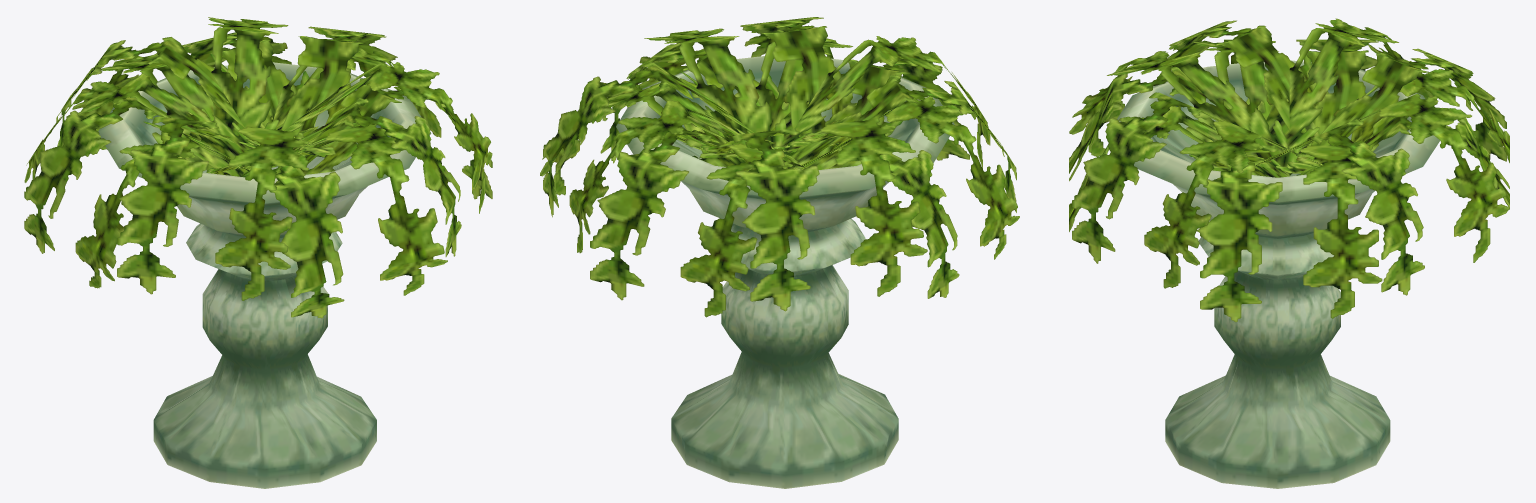
The model's file is a_plan_1.glb.
3 views of the same model, side by side, from view 1: azimuth 30°, elevation 25°; view 2: azimuth 150°, elevation 25°; view 3: azimuth 270°, elevation 25° (orthographic).
Parts seen in each view (by area): view 1: a_plan_1; view 2: a_plan_1; view 3: a_plan_1.
Boxes of the visible parts, left/top/right/bottom form: a_plan_1: left=24, top=17, right=492, bottom=488; a_plan_1: left=540, top=17, right=1019, bottom=488; a_plan_1: left=1069, top=18, right=1509, bottom=488.
Bounding box in the file's own units: 198 × 169 × 198.
Materials: 2 (2 with a texture image).
